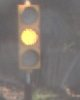Yellow: (12, 2, 45, 78)
